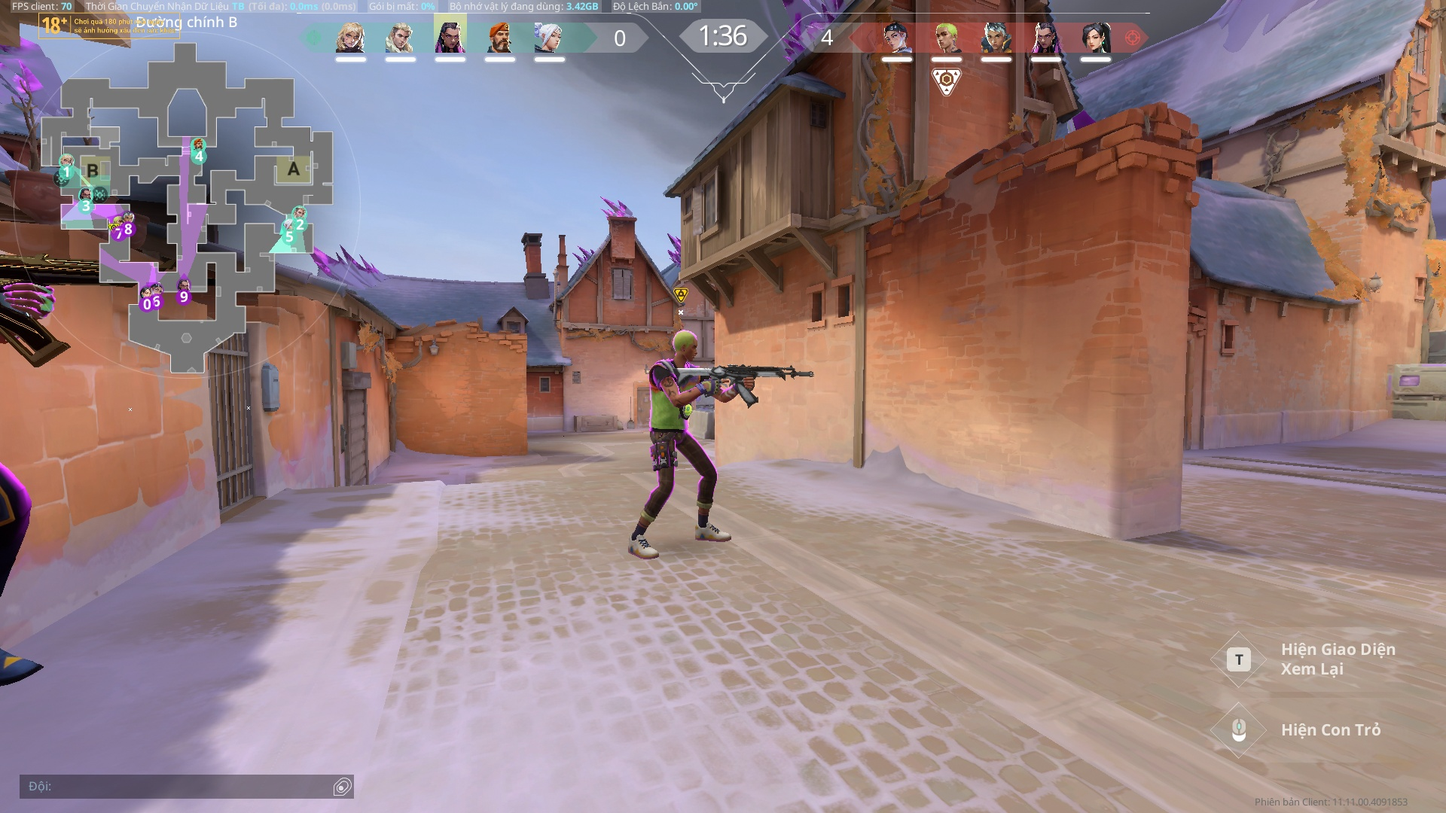body: (643, 355, 700, 430)
head: (673, 330, 699, 360)
